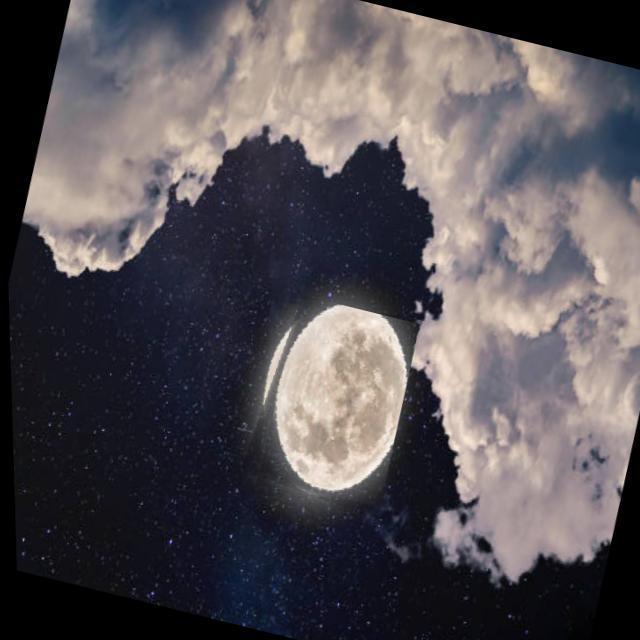moon: (229, 289, 422, 520)
